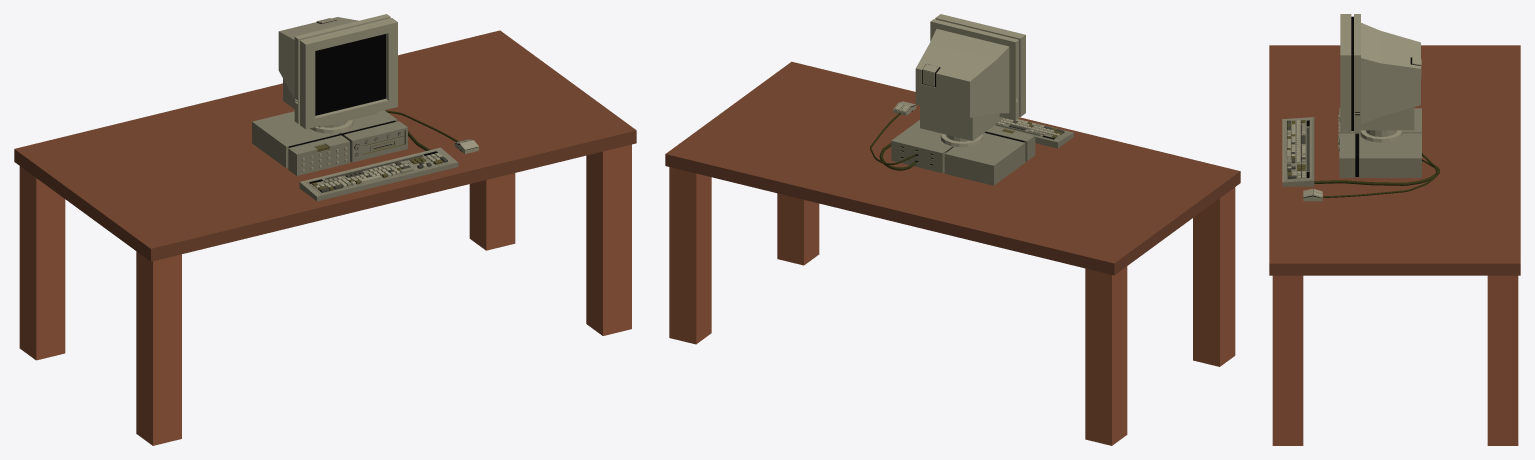
The model's file is ordinateur.fbx.
3 views of the same model, side by side, from view 1: azimuth 30°, elevation 25°; view 2: azimuth 150°, elevation 25°; view 3: azimuth 270°, elevation 25° (orthographic). The views are drawn at different scales.
Visible parts, largest first — view 1: Cube.004, Cube.005, Cube, Cube.001, Cube.002, Cube.007, Cube.003, Cube.008; view 2: Cube.004, Cube.005, Cube.002, Cube.003, Cube, Cube.007, Cube.001, Cube.006, Cube.008; view 3: Cube.004, Cube.005, Cube.001, Cube.003, Cube.007, Cube.008, Cube.006, Cylinder.006, Circle, Cylinder.007.
Boxes of the visible parts, bbox=[...] form: Cube.004: bbox=[14, 30, 636, 261]; Cube.005: bbox=[278, 14, 397, 129]; Cube: bbox=[136, 251, 181, 445]; Cube.001: bbox=[586, 144, 631, 335]; Cube.002: bbox=[19, 166, 65, 360]; Cube.007: bbox=[252, 110, 407, 175]; Cube.003: bbox=[469, 173, 515, 250]; Cube.008: bbox=[299, 147, 458, 201]; Cube.004: bbox=[665, 61, 1240, 275]; Cube.005: bbox=[915, 14, 1025, 120]; Cube.002: bbox=[1085, 266, 1127, 445]; Cube.003: bbox=[669, 167, 711, 344]; Cube: bbox=[1193, 187, 1235, 366]; Cube.007: bbox=[891, 120, 1035, 185]; Cube.001: bbox=[777, 193, 819, 265]; Cube.006: bbox=[920, 106, 1003, 140]; Cube.008: bbox=[994, 119, 1073, 148]; Cube.004: bbox=[1269, 45, 1520, 275]; Cube.005: bbox=[1340, 14, 1421, 133]; Cube.001: bbox=[1272, 275, 1303, 445]; Cube.003: bbox=[1487, 275, 1518, 445]; Cube.007: bbox=[1339, 108, 1421, 177]; Cube.008: bbox=[1282, 117, 1314, 186]; Cube.006: bbox=[1361, 107, 1414, 130]; Cylinder.006: bbox=[1314, 159, 1439, 185]; Circle: bbox=[1360, 130, 1402, 142]; Cylinder.007: bbox=[1322, 153, 1437, 197].
Bounding box in the file's own units: 630 × 407 × 307.
